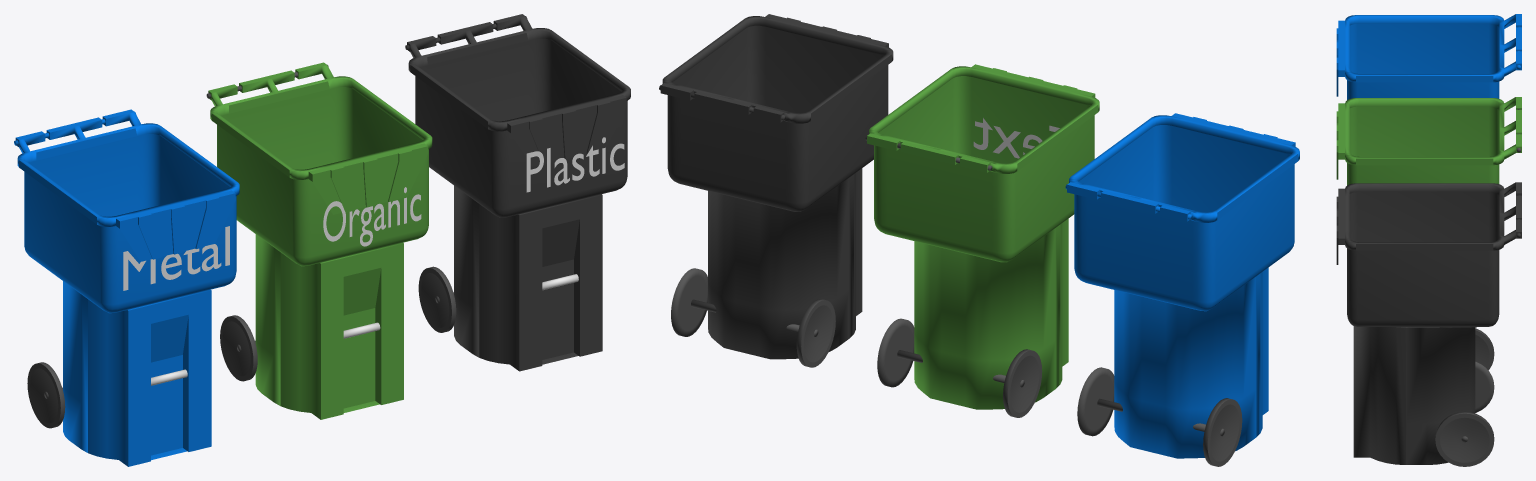
The model's file is DustBins.fbx.
The picture shows the model from 3 angles, left to right: view 1: azimuth 30°, elevation 25°; view 2: azimuth 150°, elevation 25°; view 3: azimuth 270°, elevation 25°; orthographic projection. The views are drawn at different scales.
Parts seen in each view (by area): view 1: Blue Trash Cart, Black Trash Cart, Green Trash Cart, Metal, Text.002, Text.001; view 2: Blue Trash Cart, Black Trash Cart, Green Trash Cart, Text; view 3: Black Trash Cart, Green Trash Cart, Blue Trash Cart.
Part boxes in pixels (bbox=[...]): Blue Trash Cart: bbox=[14, 109, 239, 466]; Black Trash Cart: bbox=[405, 14, 630, 371]; Green Trash Cart: bbox=[206, 62, 432, 419]; Metal: bbox=[123, 226, 229, 290]; Text.002: bbox=[526, 137, 624, 192]; Text.001: bbox=[323, 187, 421, 246]; Blue Trash Cart: bbox=[1065, 113, 1299, 466]; Black Trash Cart: bbox=[659, 14, 893, 367]; Green Trash Cart: bbox=[865, 64, 1099, 417]; Text: bbox=[973, 118, 1059, 158]; Black Trash Cart: bbox=[1336, 182, 1521, 466]; Green Trash Cart: bbox=[1336, 97, 1521, 370]; Blue Trash Cart: bbox=[1336, 14, 1521, 99].
Size of the model in its own units: 974 by 461 by 349.
